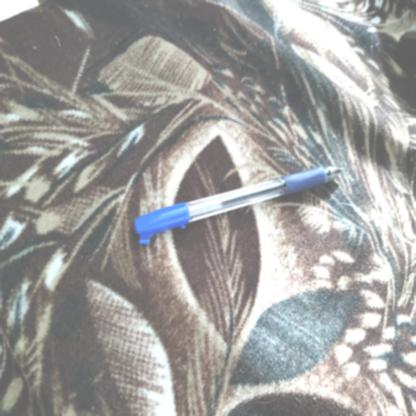pen: (110, 152, 365, 266)
